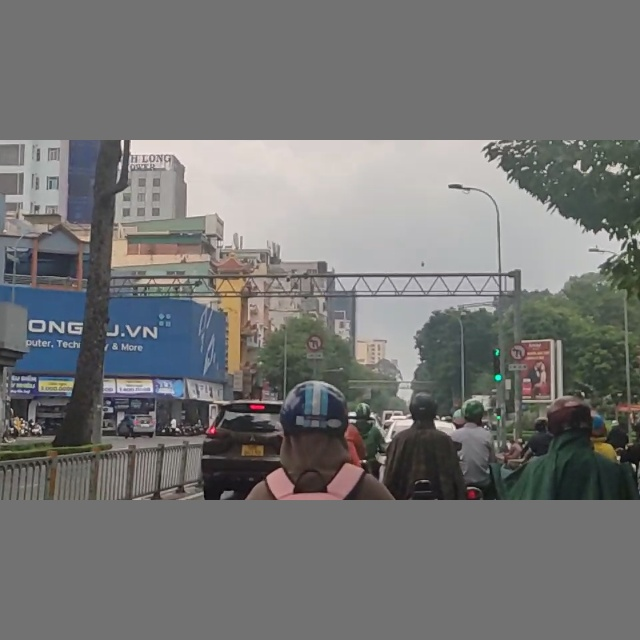P.124c: (306, 334, 325, 352), (509, 344, 528, 361)
